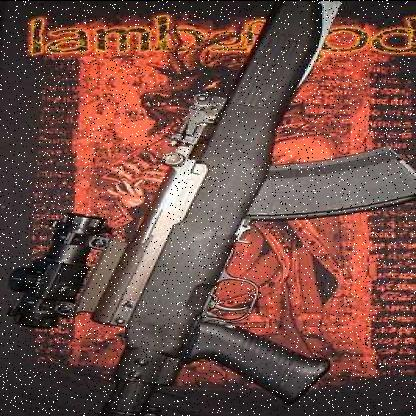rifle: (18, 1, 412, 413)
